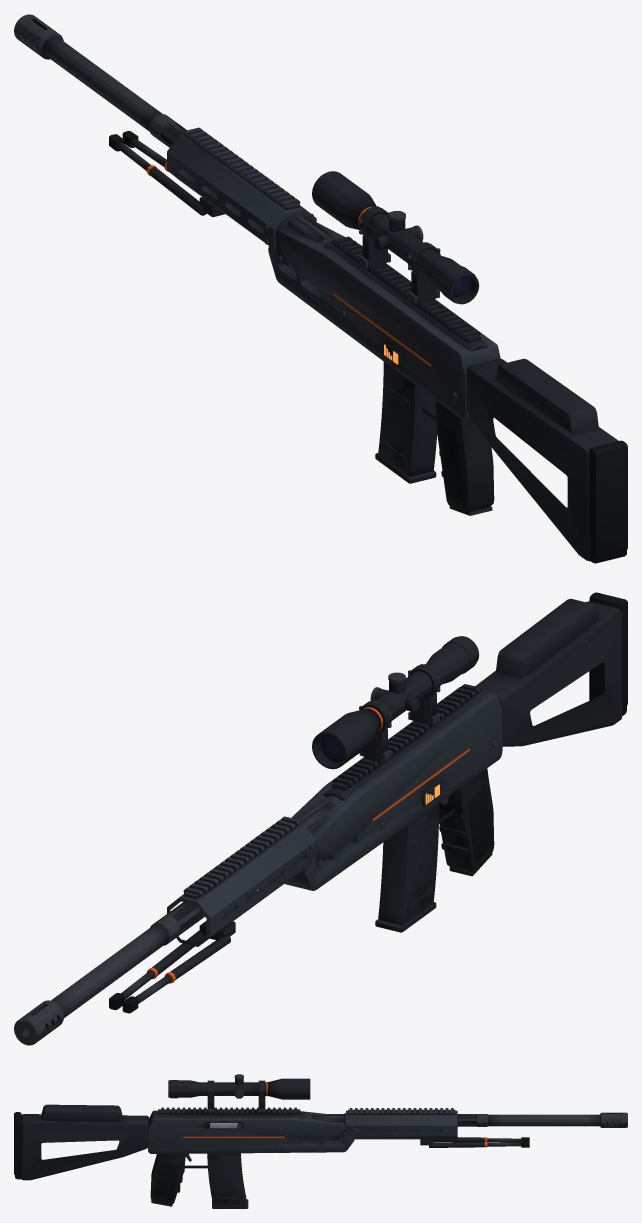
File: mk14-ebr.glb
3 views of the same model, one above another, from view 1: azimuth 30°, elevation 25°; view 2: azimuth 150°, elevation 25°; view 3: azimuth 270°, elevation 25° (orthographic). The views are drawn at different scales.
Visible parts, largest first — view 1: body_frame2, body_frame, body_steel, body_rubber, mag_frame2, body_polymer; view 2: body_frame2, body_frame, body_steel, mag_frame2, body_rubber, body_polymer; view 3: body_frame2, body_frame, body_steel, mag_frame2, body_rubber, body_polymer, body_accent.
Part boxes in pixels (bbox=[...]): body_frame2: bbox=[149, 167, 618, 561]; body_frame: bbox=[167, 127, 500, 420]; body_steel: bbox=[14, 14, 456, 399]; body_rubber: bbox=[109, 131, 627, 563]; mag_frame2: bbox=[375, 362, 437, 483]; body_polymer: bbox=[435, 401, 494, 511]; body_frame2: bbox=[152, 598, 621, 979]; body_frame: bbox=[167, 687, 502, 946]; body_steel: bbox=[14, 670, 497, 1045]; mag_frame2: bbox=[375, 802, 439, 932]; body_rubber: bbox=[109, 592, 627, 1013]; body_polymer: bbox=[439, 768, 494, 872]; body_frame2: bbox=[21, 1078, 484, 1206]; body_frame: bbox=[148, 1108, 457, 1153]; body_steel: bbox=[156, 1074, 627, 1161]; mag_frame2: bbox=[207, 1153, 248, 1208]; body_rubber: bbox=[14, 1112, 529, 1200]; body_polymer: bbox=[150, 1153, 185, 1204]; body_accent: bbox=[183, 1082, 487, 1147].
Size of the model in its own units: 0.0702 by 0.282 by 1.21.
